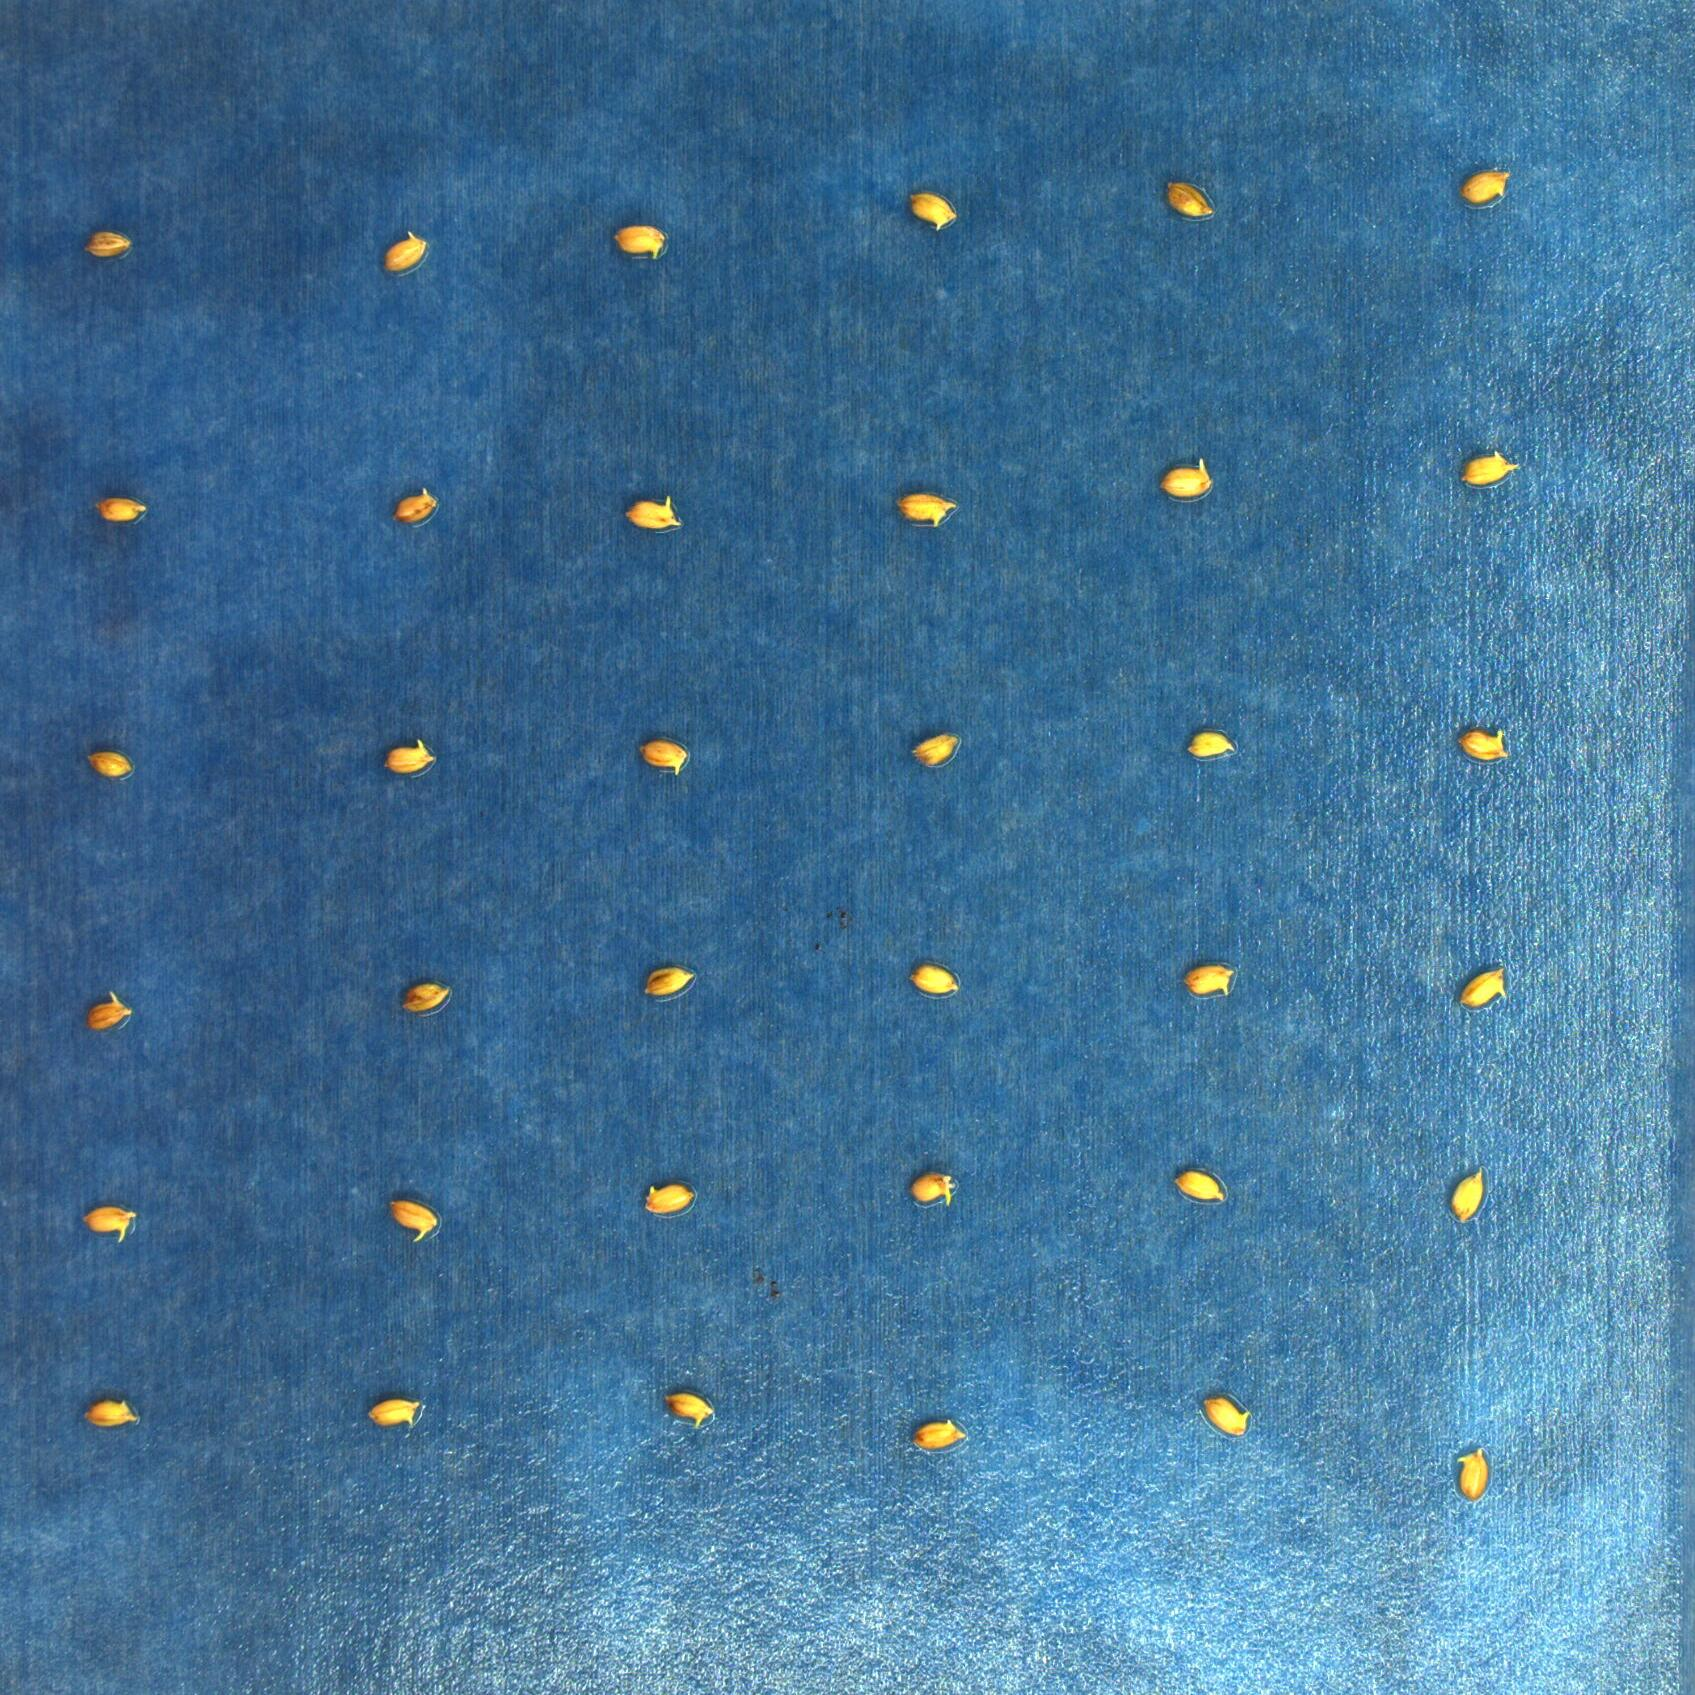not sprout: (1163, 175, 1218, 225), (1461, 449, 1523, 489), (905, 186, 962, 230), (1454, 967, 1509, 1010), (385, 1198, 439, 1242), (374, 231, 427, 275), (1461, 169, 1523, 205), (1159, 456, 1212, 498), (1451, 1167, 1492, 1222), (1203, 1392, 1251, 1437), (82, 989, 132, 1032), (612, 225, 671, 261), (622, 498, 683, 532), (640, 737, 692, 776), (365, 1395, 424, 1430), (667, 1391, 719, 1430), (1456, 730, 1513, 764), (1180, 962, 1234, 998), (82, 1208, 138, 1242), (640, 1181, 695, 1215), (1173, 1170, 1229, 1205), (1454, 1445, 1489, 1501), (910, 730, 958, 767), (82, 1399, 140, 1430), (913, 962, 962, 998), (894, 494, 951, 523), (911, 1420, 965, 1451), (913, 1173, 958, 1211), (78, 230, 129, 262), (382, 740, 435, 771), (400, 983, 453, 1014), (643, 967, 695, 998), (85, 750, 137, 781), (1187, 730, 1240, 757), (396, 489, 436, 523), (96, 497, 147, 523)
